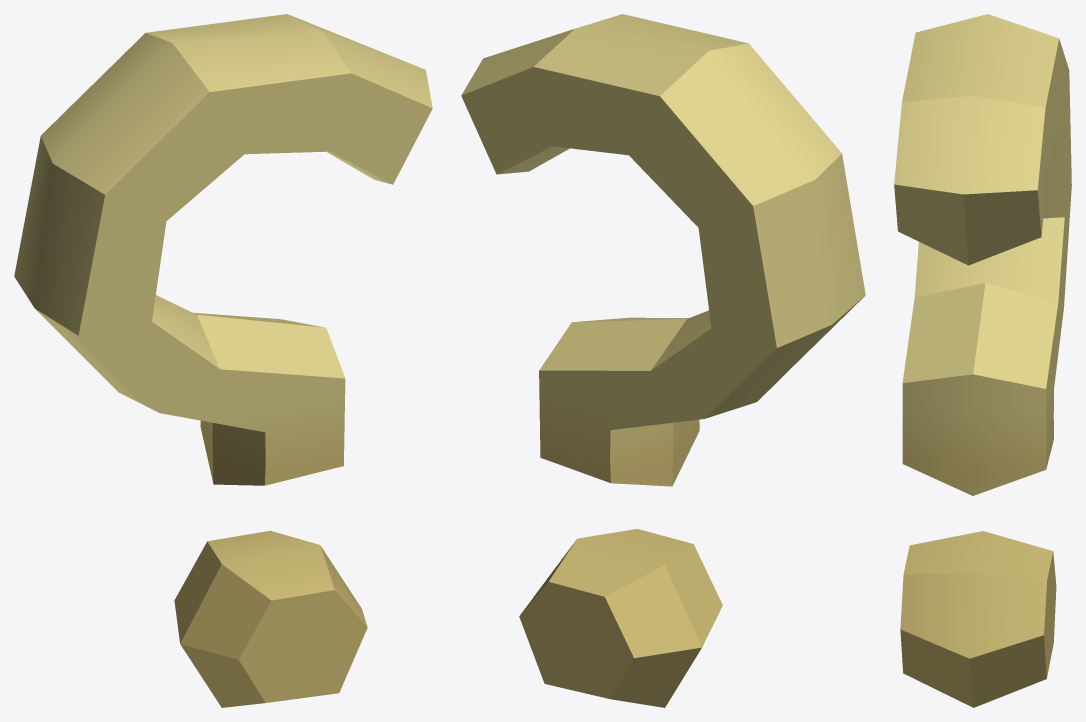
The model's file is QeustionMark.fbx.
3 views of the same model, side by side, from view 1: azimuth 30°, elevation 25°; view 2: azimuth 150°, elevation 25°; view 3: azimuth 270°, elevation 25° (orthographic). The views are drawn at different scales.
Parts seen in each view (by area): view 1: SM_Icon_QuestionMark_01; view 2: SM_Icon_QuestionMark_01; view 3: SM_Icon_QuestionMark_01.
Boxes of the visible parts, x1,y1,x2,y2 form: SM_Icon_QuestionMark_01: (14, 14, 432, 707); SM_Icon_QuestionMark_01: (461, 14, 865, 707); SM_Icon_QuestionMark_01: (894, 14, 1071, 707).
Bounding box in the file's own units: 22.19 × 38.56 × 9.86.
